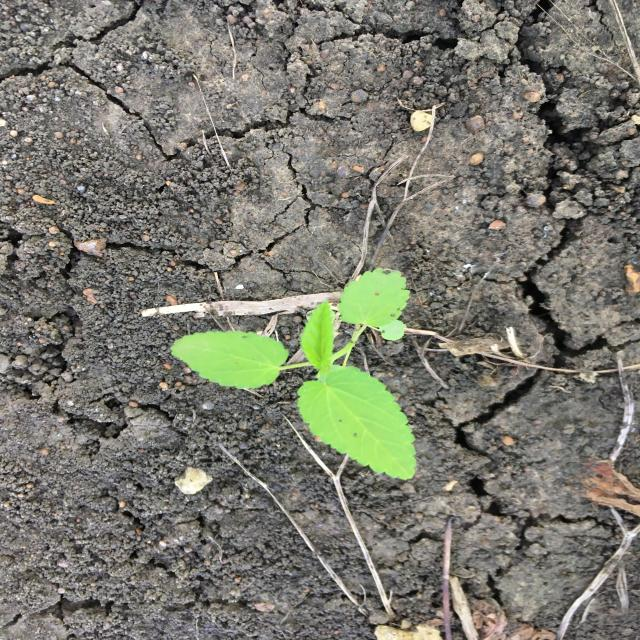PricklySida: (169, 267, 419, 482)
